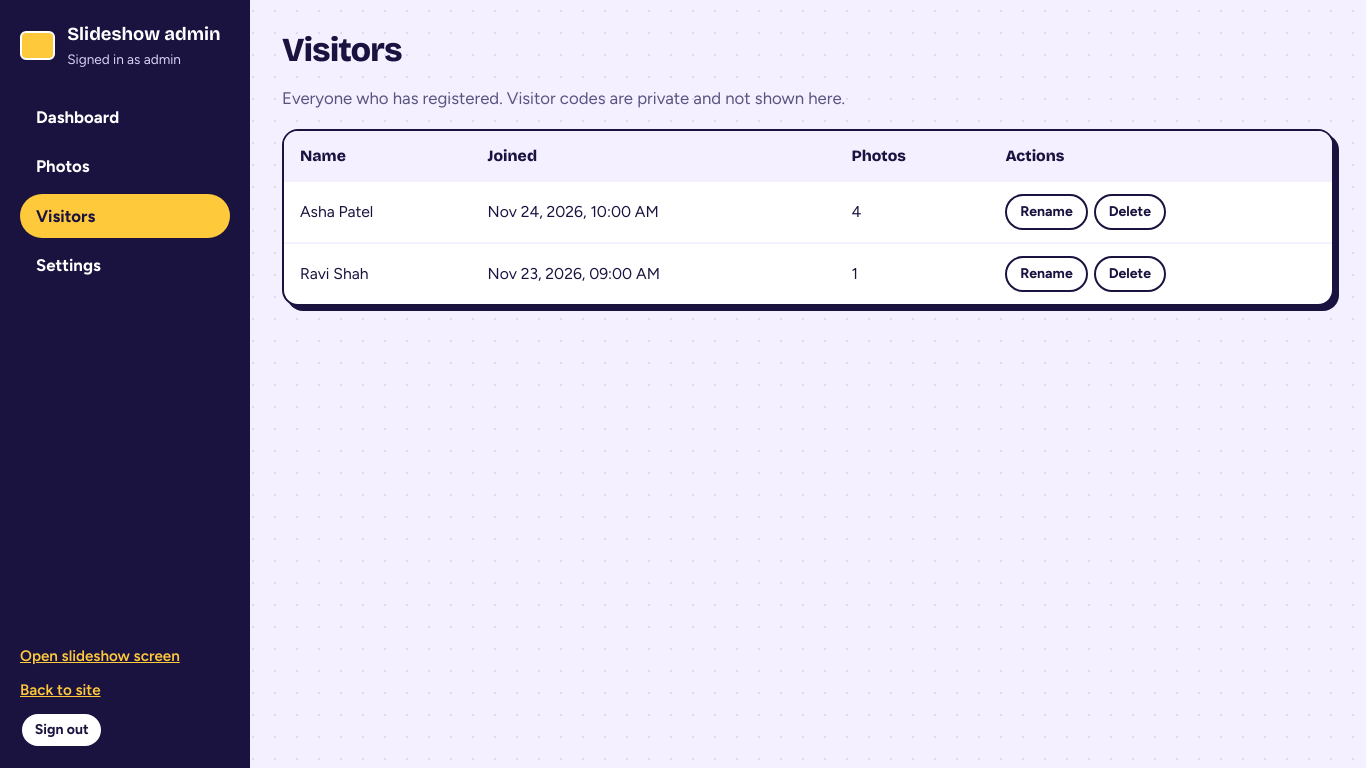
Admin visitor management › renames a visitor
Click the button with aria-label "Rename Asha Patel": click(1046, 212) top-left (1005, 194), bottom-right (1088, 230)
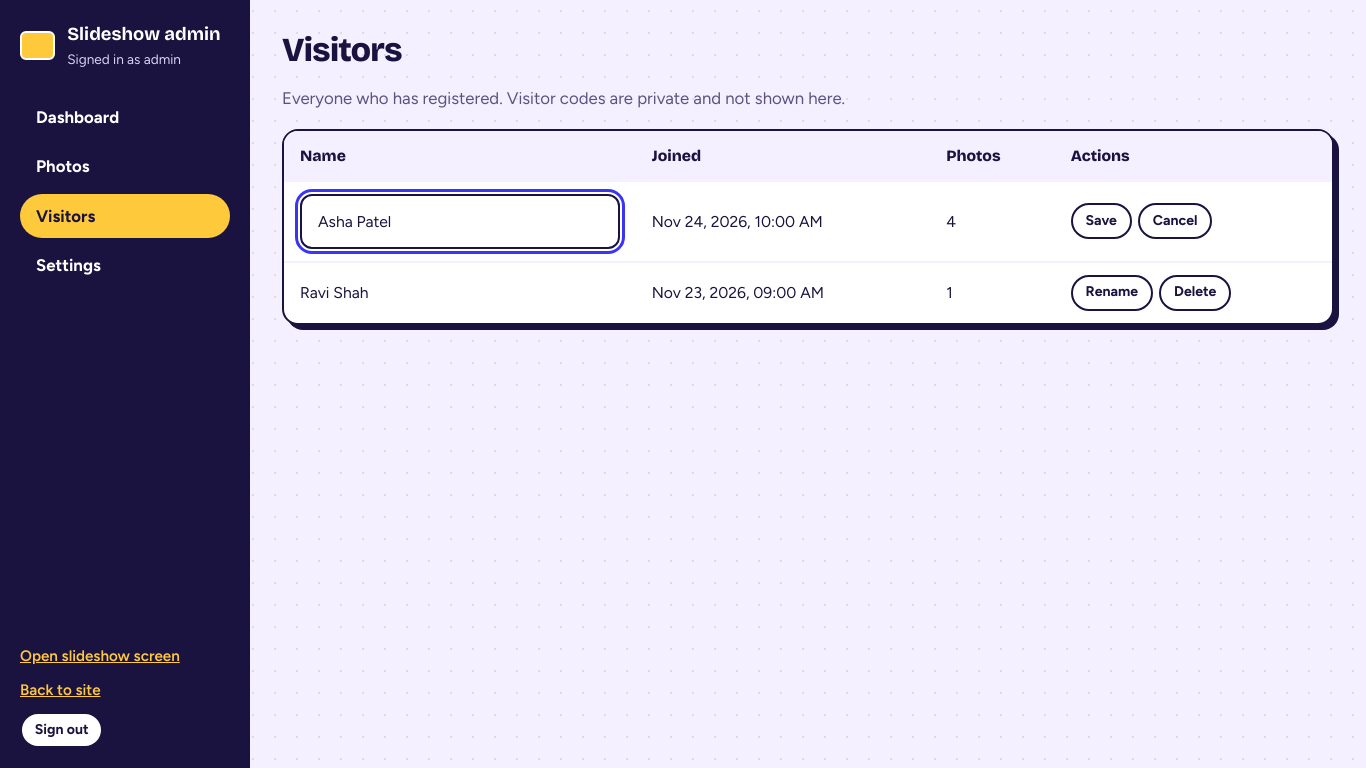
Replace the text in the field named "New name for Asha Patel" with "Asha Shah": (460, 221) top-left (300, 194), bottom-right (620, 248)
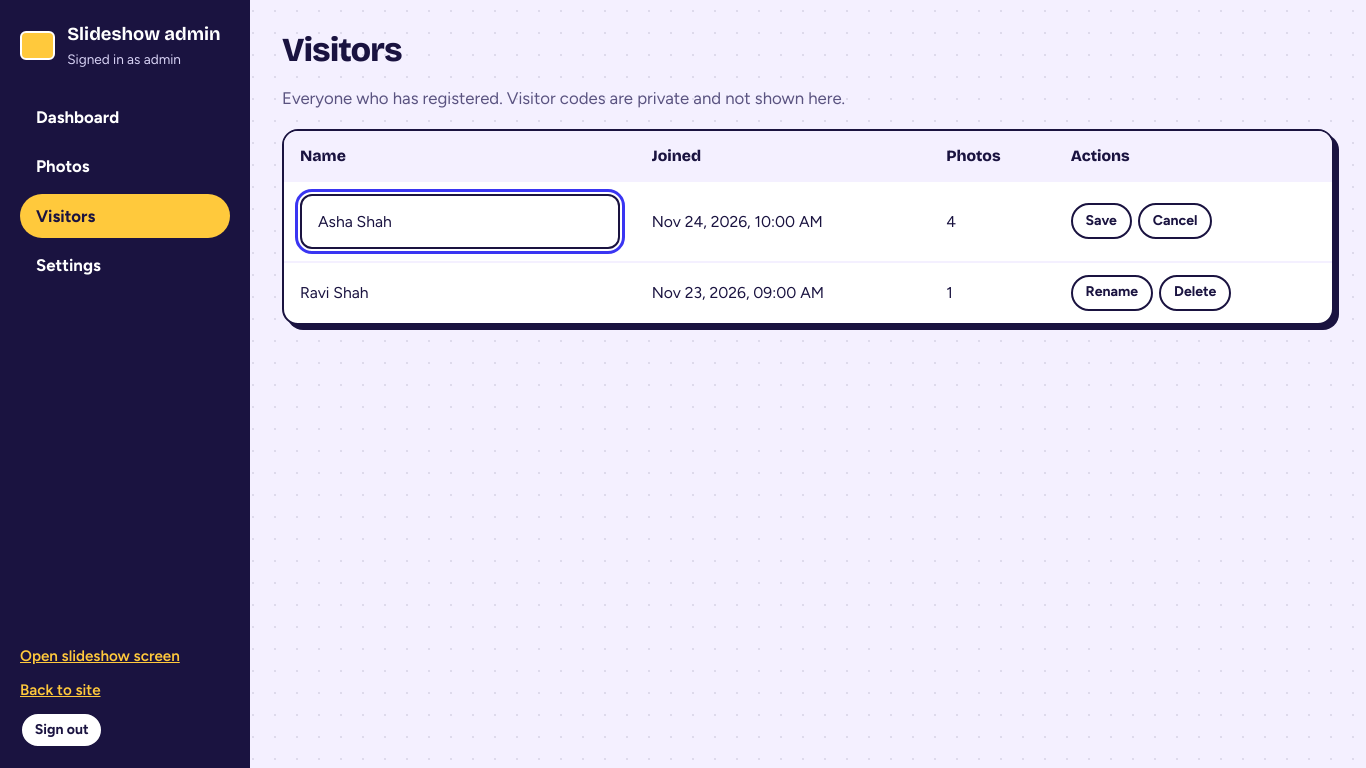
Click the button with aria-label "Save new name for Asha Patel": click(1101, 221) top-left (1071, 203), bottom-right (1132, 239)
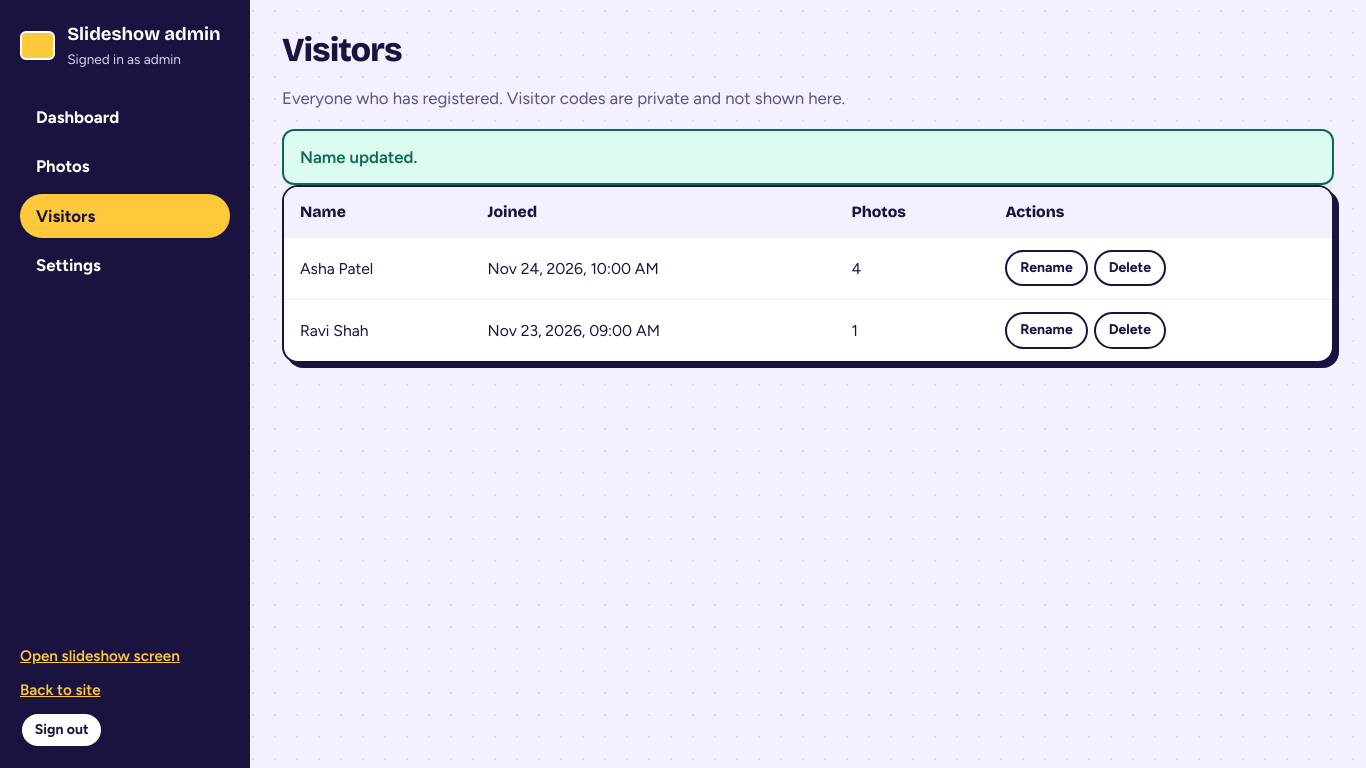
Now the text "Name updated." is shown, box top-left (282, 129), bottom-right (1334, 185)
